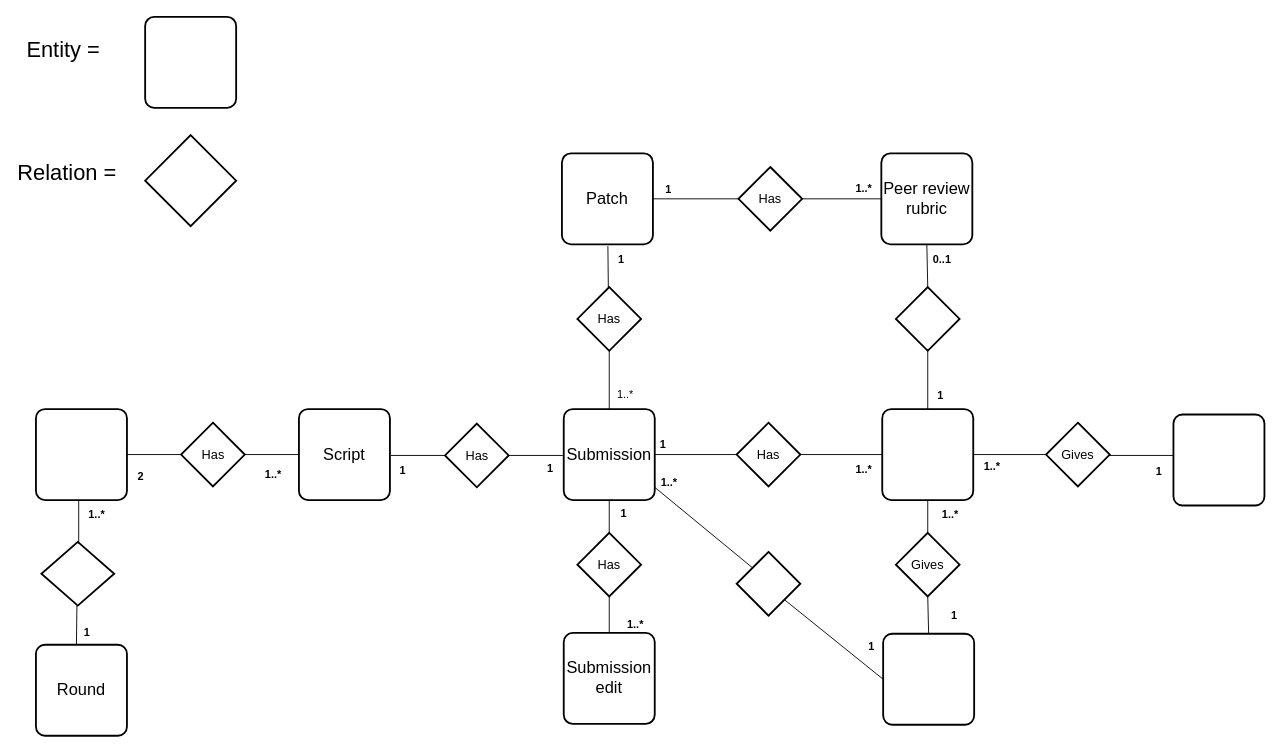
Image size: 1280x752. Some labels were removed from this diagram. Here are the shapes that lost their labels. From the top down, the centre of each, then its label:
the point at 927,318: Based on
the point at 81,454: Judgement
the point at 927,454: Feedback
the point at 1218,459: Teacher
the point at 77,573: Belongs to
the point at 768,583: Makes
the point at 928,678: Student
